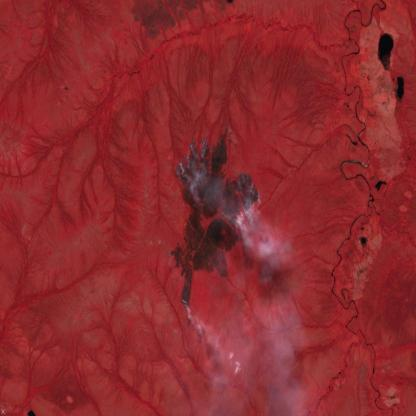fire: (165, 119, 262, 314)
